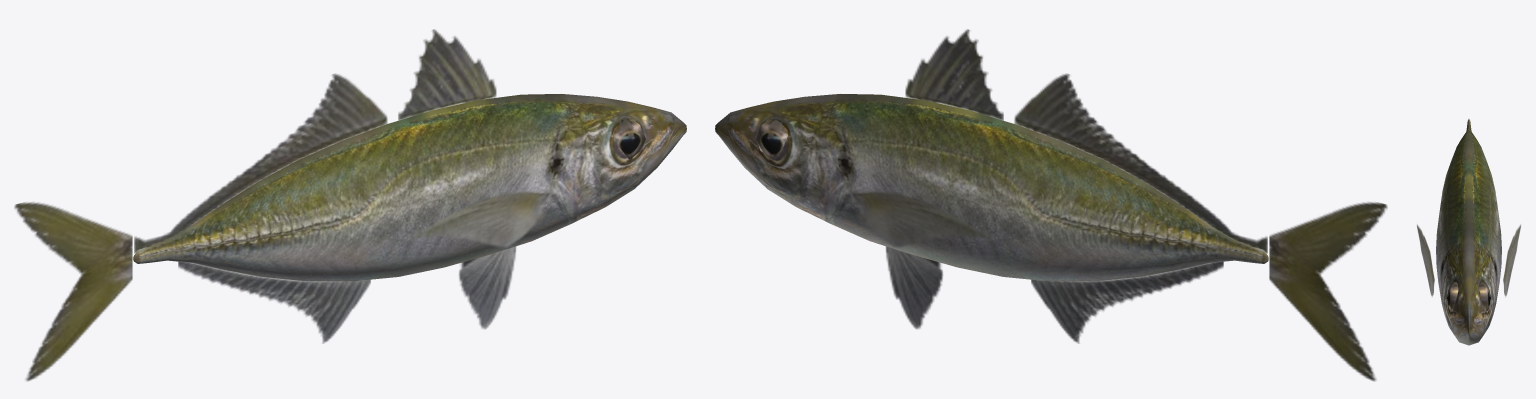
File: aji_lo.glb
3 views of the same model, side by side, from view 1: azimuth 30°, elevation 25°; view 2: azimuth 150°, elevation 25°; view 3: azimuth 270°, elevation 25° (orthographic). The views are drawn at different scales.
Parts seen in each view (by area): view 1: aji_body; view 2: aji_body; view 3: aji_body.
Part boxes in pixels (x1=…): aji_body: x1=14, y1=29, x2=686, y2=381; aji_body: x1=715, y1=29, x2=1387, y2=381; aji_body: x1=1417, y1=119, x2=1520, y2=345.
Size of the model in its own units: 0.2504 by 0.1112 by 0.0446.
Materials: 1 (1 with a texture image).
